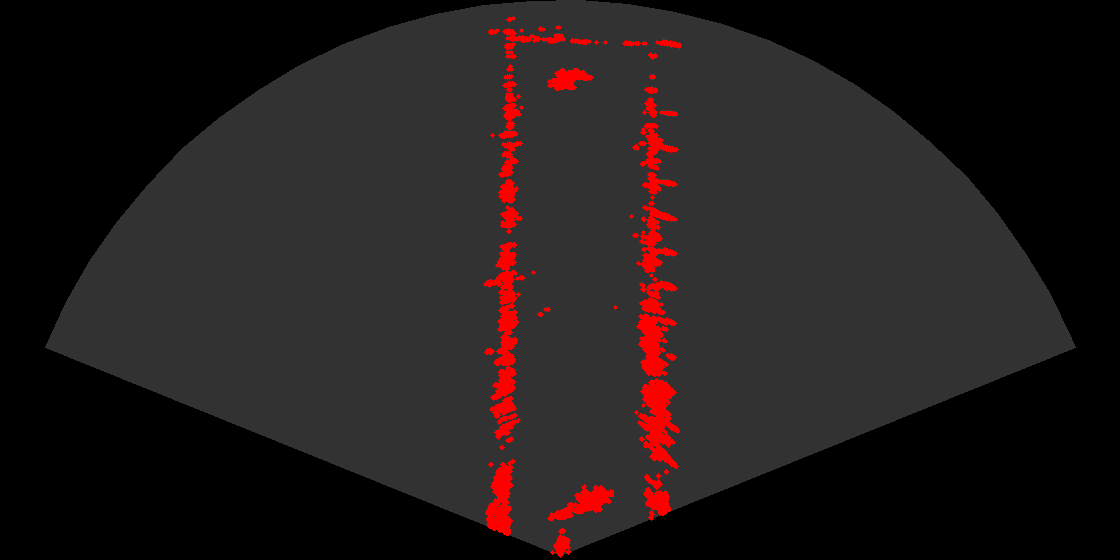AUV: (541, 66, 597, 98)
frogman: (546, 478, 614, 525)
